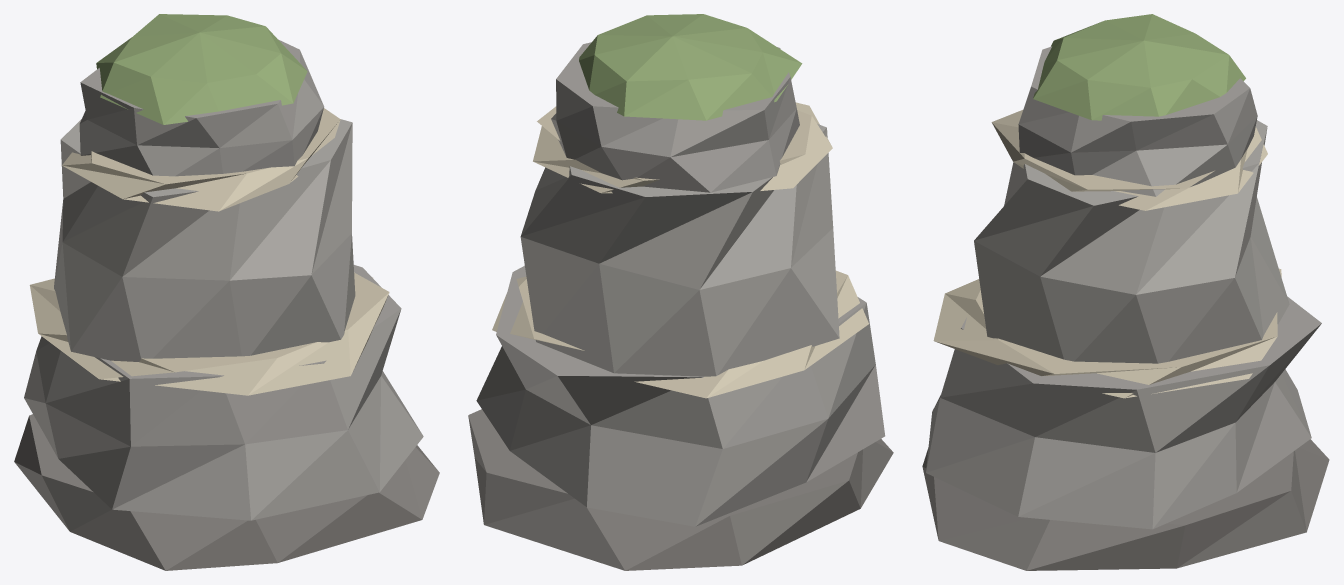
File: sea-stack-0.glb
3 renders of one model, left to right at view 1: azimuth 30°, elevation 25°; view 2: azimuth 150°, elevation 25°; view 3: azimuth 270°, elevation 25°, orthographic. The views are drawn at different scales.
Visible parts, largest first — view 1: LOD0; view 2: LOD0; view 3: LOD0.
Part boxes in pixels (left/top/right/bottom): LOD0: left=14, top=14, right=439, bottom=570; LOD0: left=468, top=14, right=893, bottom=570; LOD0: left=922, top=14, right=1329, bottom=570.
Size of what is drawn, in the model's own units: 0.8336 by 1 by 0.8353.
